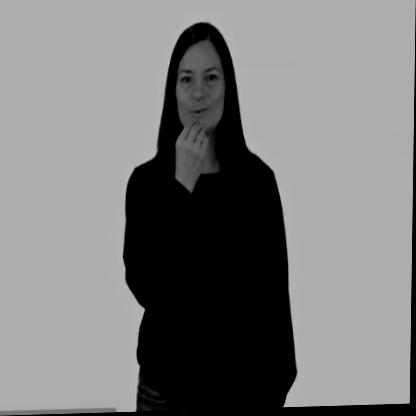Food: (121, 15, 300, 410)
